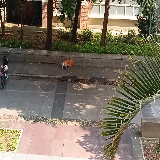fire: (64, 59, 74, 67)
